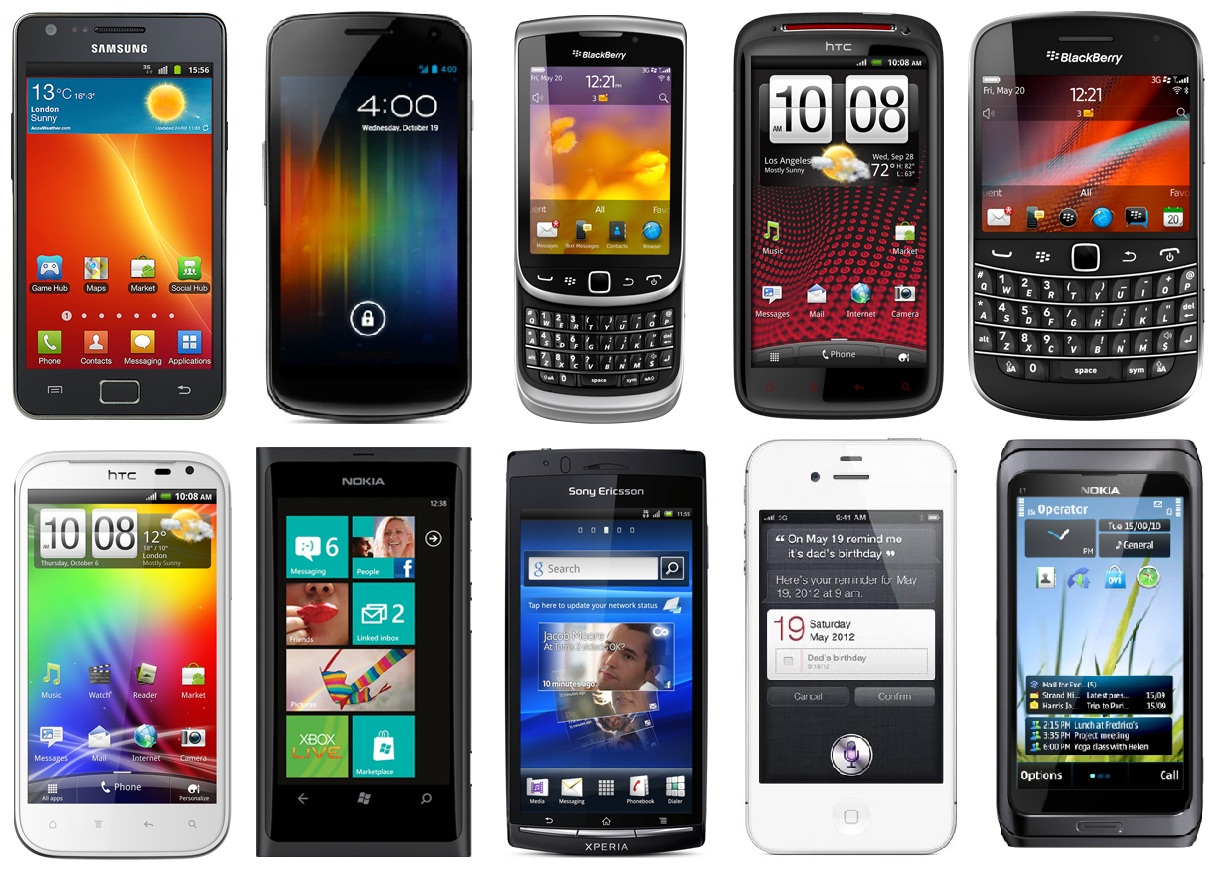mobile: (722, 439, 981, 868), (248, 454, 495, 864), (4, 5, 237, 428), (971, 9, 1207, 417), (727, 12, 960, 414), (15, 451, 240, 858), (256, 13, 480, 418), (499, 8, 704, 431)
